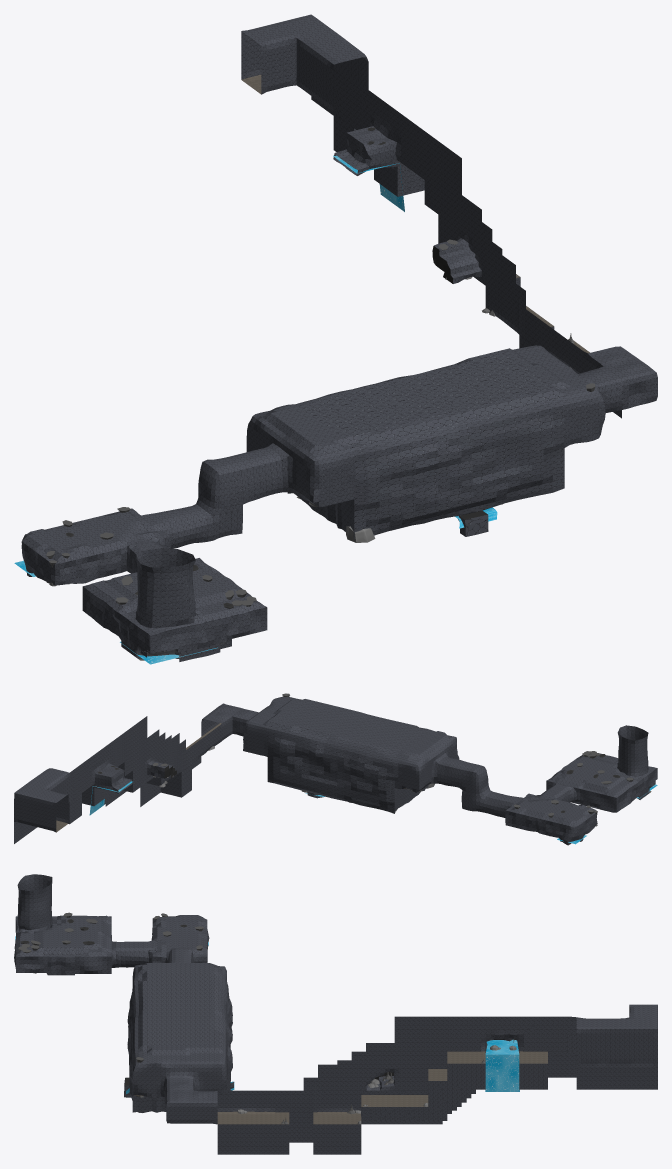
Rendered from Mapa 1.glb.
3 renders of one model, top to bottom at view 1: azimuth 30°, elevation 25°; view 2: azimuth 150°, elevation 25°; view 3: azimuth 270°, elevation 25°, orthographic. The views are drawn at different scales.
Visible parts, largest first — view 1: p1; view 2: p1; view 3: p1, Agua 4.
Part boxes in pixels (x1,y1,x2,y2): p1: [21, 14, 657, 661]; p1: [14, 696, 657, 845]; p1: [14, 874, 657, 1154]; Agua 4: [485, 1039, 519, 1091].
Size of what is drawn, in the model's own units: 105 by 31.75 by 135.
Materials: 33 (32 with a texture image).
